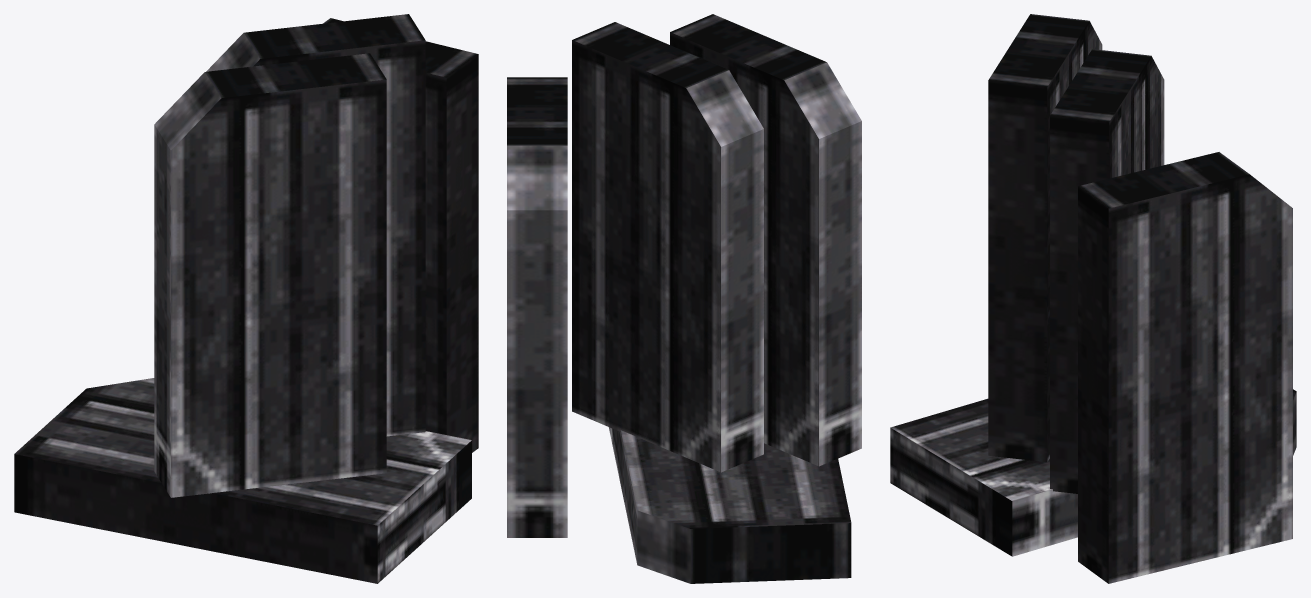
Rendered from magazine.FBX.
3 views of the same model, side by side, from view 1: azimuth 30°, elevation 25°; view 2: azimuth 150°, elevation 25°; view 3: azimuth 270°, elevation 25° (orthographic). The views are drawn at different scales.
Parts seen in each view (by area): view 1: Shots_full; view 2: Shots_full; view 3: Shots_full.
Part boxes in pixels (x1=…): Shots_full: x1=14, y1=14, x2=478, y2=583; Shots_full: x1=507, y1=14, x2=861, y2=583; Shots_full: x1=890, y1=14, x2=1296, y2=583.
Size of the model in its own units: 0.7639 by 0.7966 by 0.6803.
